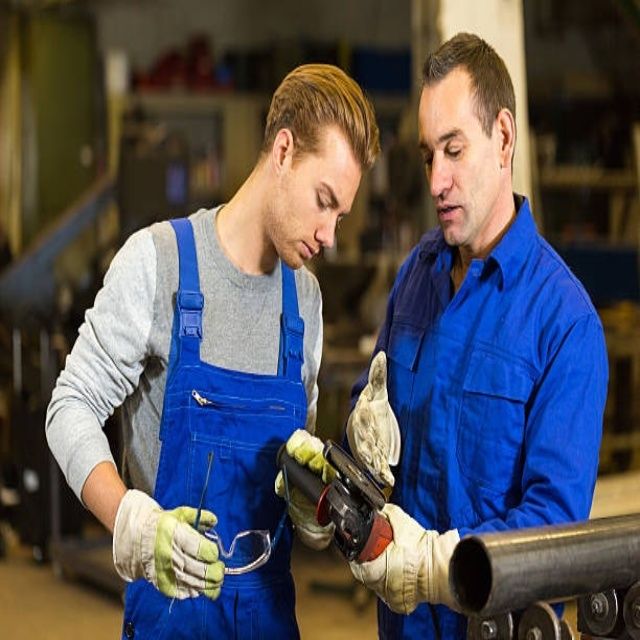Gafas: (190, 449, 280, 577)
Guantes: (345, 500, 463, 615), (114, 489, 225, 603), (274, 430, 340, 551), (347, 352, 401, 488)
Sin_gafas: (304, 155, 347, 229), (419, 116, 474, 171)
Sin_mascara: (432, 193, 472, 240), (290, 227, 323, 273)
